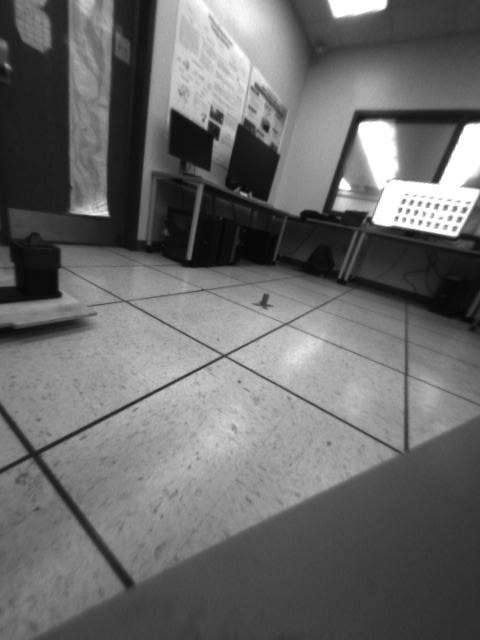X: (250, 291, 274, 311)
